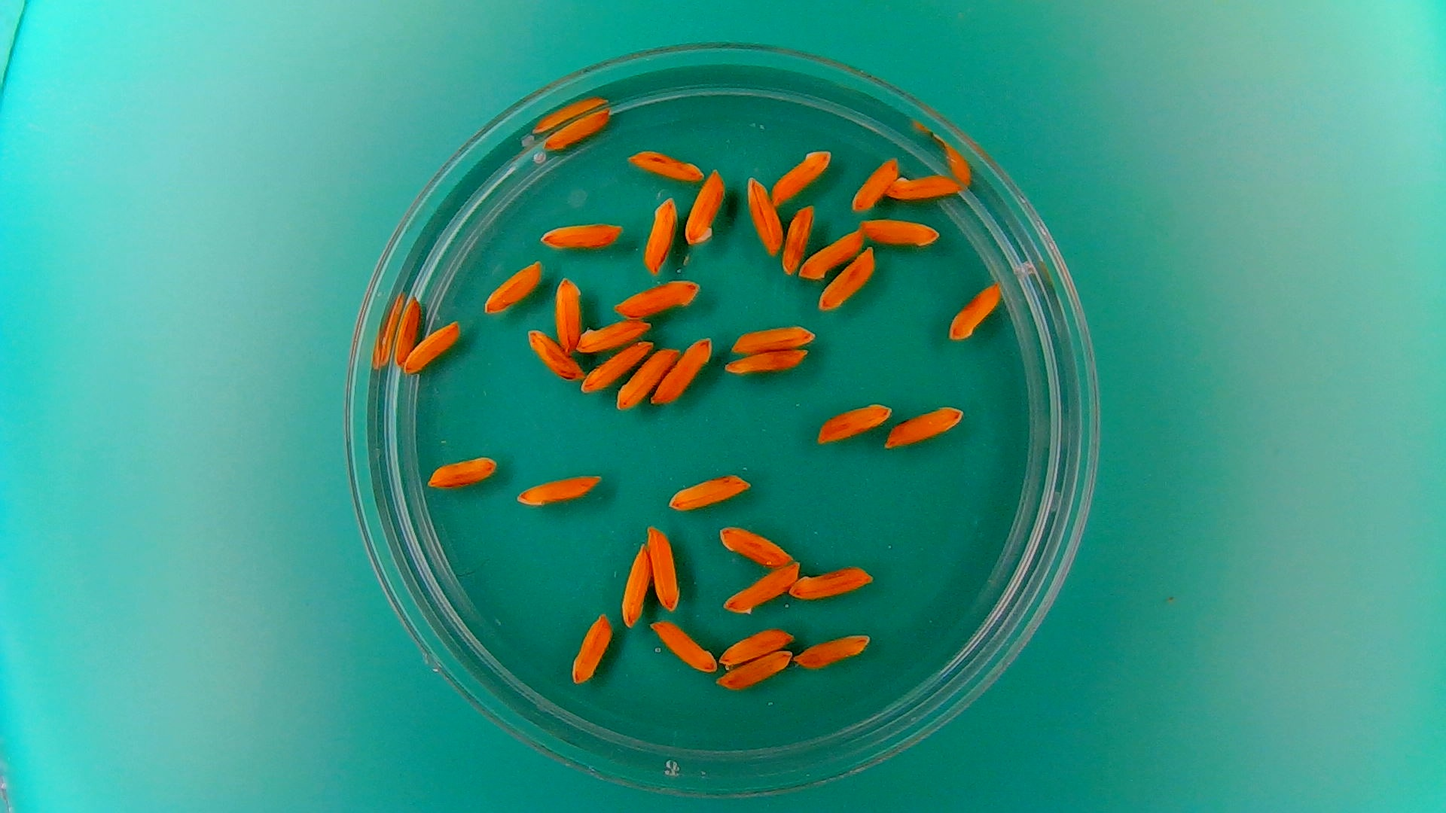no: (719, 559, 801, 616), (651, 334, 714, 406), (615, 343, 679, 411), (580, 337, 656, 392), (767, 146, 835, 206), (818, 245, 877, 311), (648, 617, 717, 673), (665, 469, 753, 512), (884, 403, 966, 449), (480, 257, 544, 315), (798, 227, 865, 282), (682, 167, 727, 248), (814, 399, 893, 445), (715, 521, 795, 566), (947, 279, 1003, 342), (717, 624, 795, 668), (401, 318, 462, 374), (542, 104, 614, 151), (569, 610, 614, 685), (514, 470, 602, 508), (743, 174, 783, 257), (523, 326, 583, 381), (788, 563, 874, 601), (715, 648, 794, 689), (646, 522, 682, 611), (795, 629, 874, 669), (728, 321, 817, 356), (618, 540, 651, 629), (425, 452, 500, 491), (575, 316, 651, 354), (642, 193, 678, 273), (537, 218, 624, 251), (850, 155, 899, 213), (626, 147, 706, 182), (780, 202, 817, 276), (722, 346, 810, 376), (860, 216, 941, 248), (553, 273, 582, 356), (886, 170, 962, 201), (392, 294, 423, 368)
